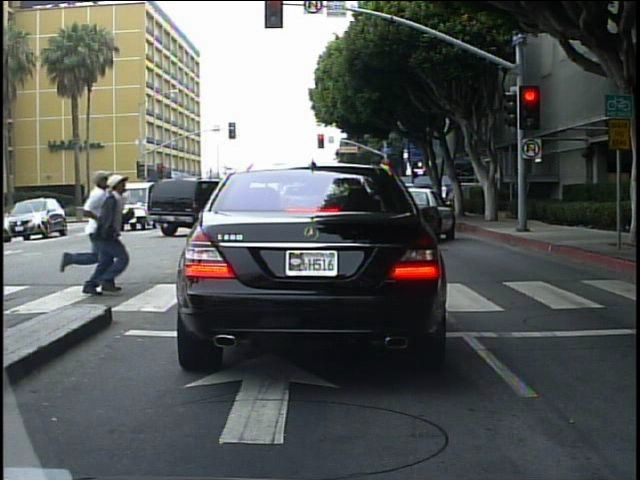person: (66, 170, 137, 295), (49, 165, 102, 297), (438, 179, 453, 215)
